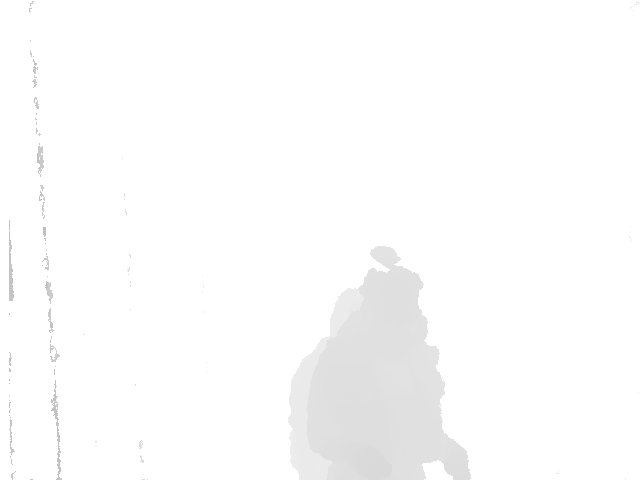head: (361, 247, 428, 329)
person: (304, 248, 473, 480)
